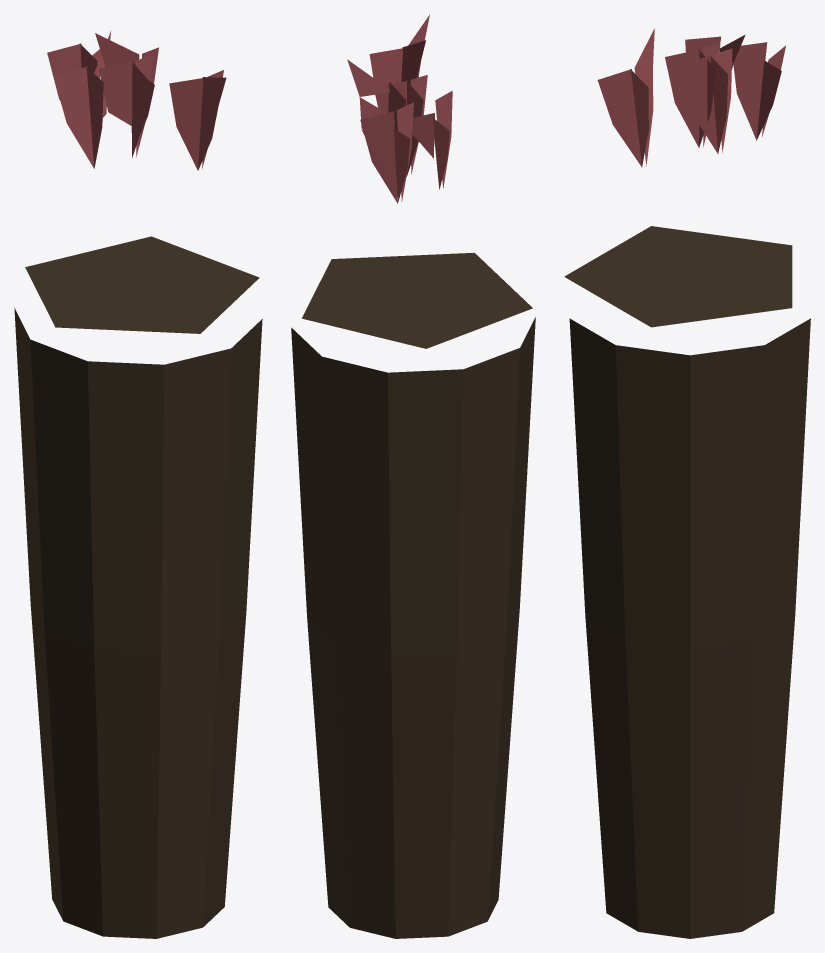
File: quiver.lod.glb
3 views of the same model, side by side, from view 1: azimuth 30°, elevation 25°; view 2: azimuth 150°, elevation 25°; view 3: azimuth 270°, elevation 25° (orthographic). The views are drawn at different scales.
Visible parts, largest first — view 1: m; view 2: m; view 3: m.
Boxes of the visible parts, x1,y1,x2,y2 form: m: [14, 31, 262, 938]; m: [291, 14, 535, 938]; m: [564, 28, 810, 938].
Size of the model in its own units: 0.0859 by 0.3272 by 0.0835.
